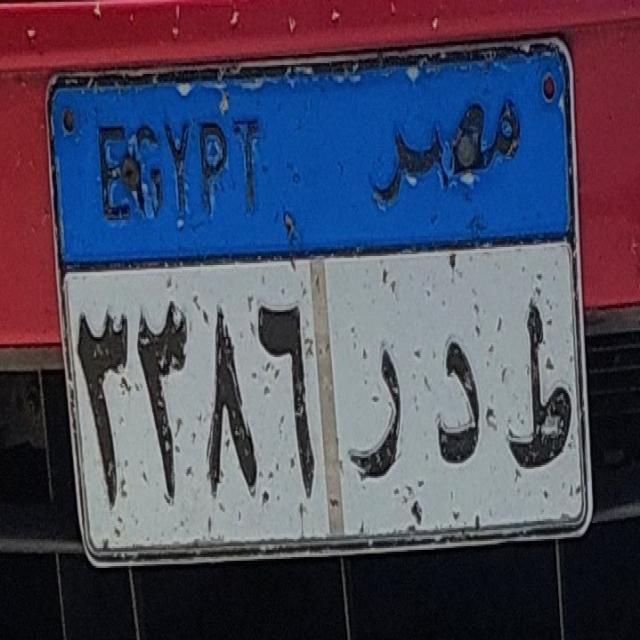3: (120, 296, 207, 511), (66, 295, 142, 510)
6: (244, 276, 334, 516)
8: (195, 288, 269, 518)
R: (347, 332, 414, 491)
Taa: (496, 291, 580, 486)
daal: (428, 323, 489, 471)
